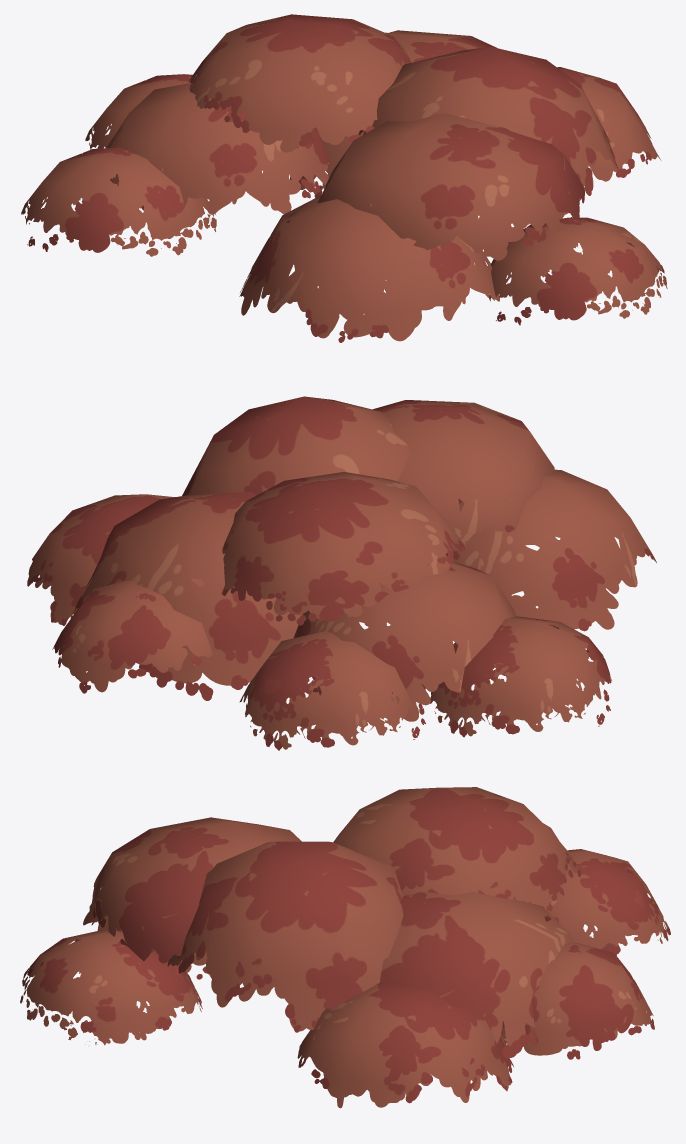
Rendered from mdl_BushBig.fbx.
The picture shows the model from 3 angles, top to bottom: view 1: azimuth 30°, elevation 25°; view 2: azimuth 150°, elevation 25°; view 3: azimuth 270°, elevation 25°; orthographic projection. The views are drawn at different scales.
Parts seen in each view (by area): view 1: mdl_BushBig; view 2: mdl_BushBig; view 3: mdl_BushBig.
Part boxes in pixels (x1,y1,x2,y2): mdl_BushBig: (21, 14, 667, 342); mdl_BushBig: (27, 396, 656, 750); mdl_BushBig: (20, 787, 670, 1108).
Bounding box in the file's own units: 16.6 × 4.63 × 16.26.
